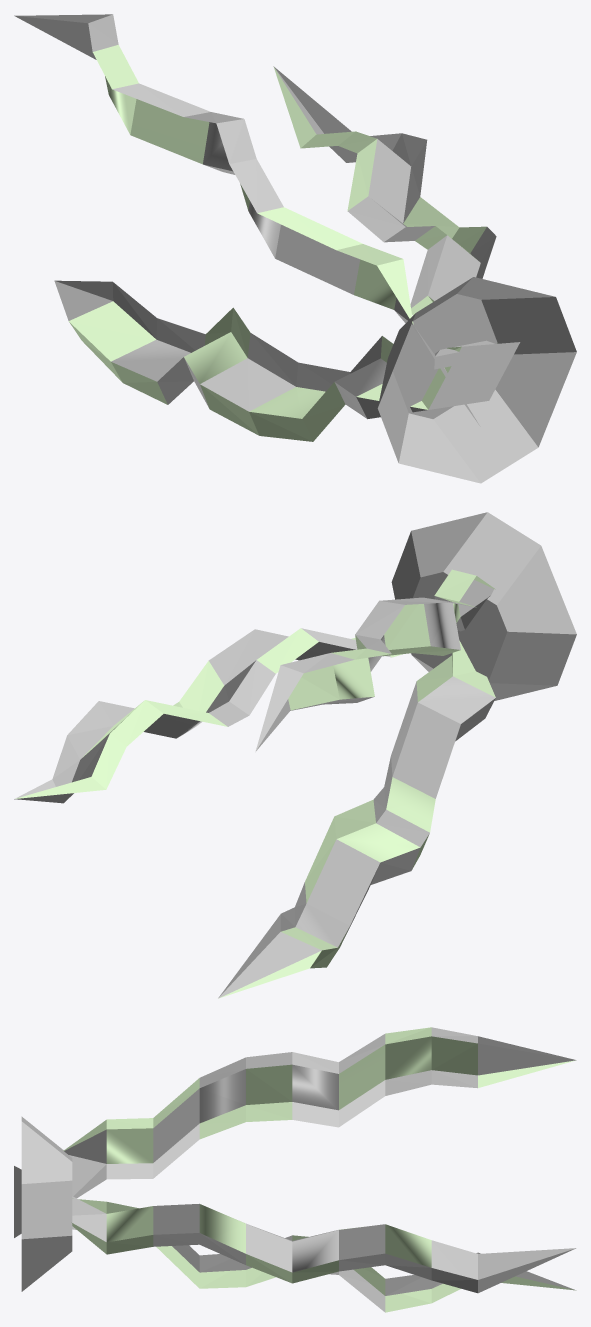
Rendered from Plant.FBX.
3 renders of one model, top to bottom at view 1: azimuth 30°, elevation 25°; view 2: azimuth 150°, elevation 25°; view 3: azimuth 270°, elevation 25°, orthographic. The views are drawn at different scales.
Parts seen in each view (by area): view 1: Plant; view 2: Plant; view 3: Plant.
Part boxes in pixels (<box>): Plant: <box>14,14,576,483</box>; Plant: <box>14,512,576,998</box>; Plant: <box>14,1027,576,1312</box>.
Size of the model in its own units: 105 by 109 by 205.
